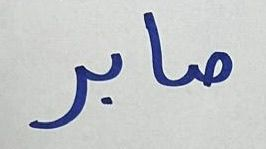alef: (139, 9, 176, 93)
reh: (28, 59, 89, 131)
sad: (178, 48, 237, 90)
yeh: (90, 47, 128, 109)
